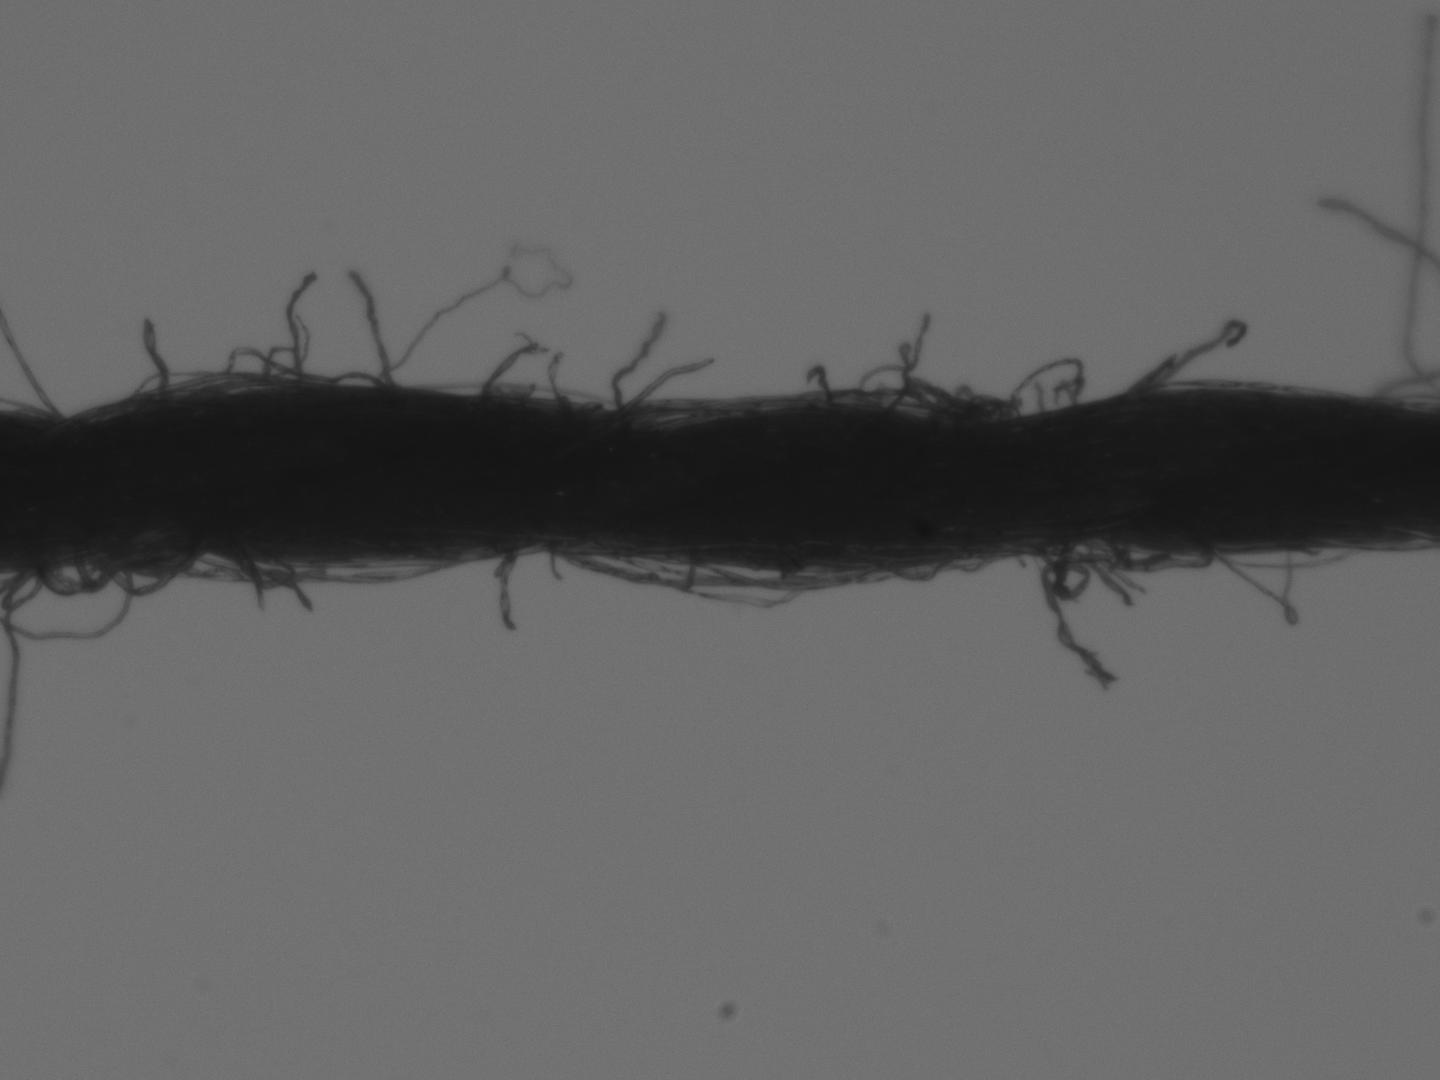loop_fiber: (213, 338, 401, 404), (1193, 537, 1308, 633), (1089, 507, 1217, 574), (539, 542, 700, 594), (18, 528, 121, 604), (198, 548, 330, 594), (1008, 353, 1086, 430), (883, 371, 997, 422), (850, 538, 960, 585), (694, 551, 813, 591), (69, 524, 128, 598), (1025, 540, 1091, 605), (807, 388, 875, 419)
protruding_fiber: (608, 306, 670, 438)
